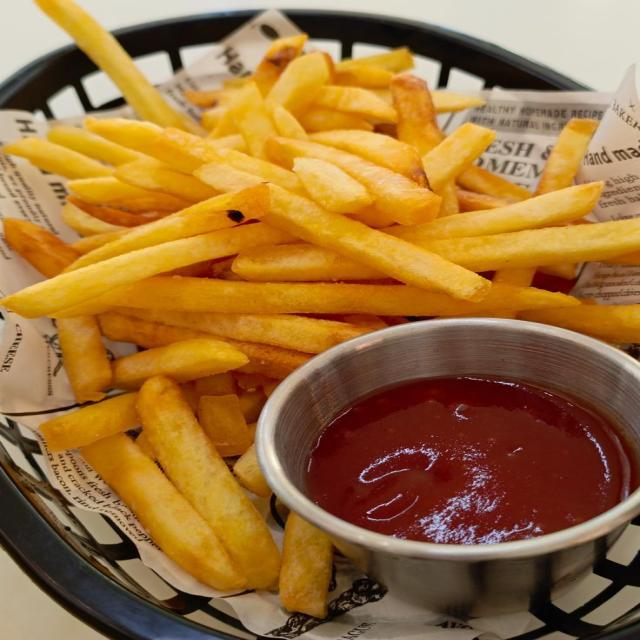potato fries: (2, 0, 639, 617), (138, 376, 279, 589), (3, 224, 291, 317), (82, 434, 246, 589), (266, 187, 490, 300), (37, 0, 199, 132), (105, 277, 579, 315), (73, 186, 268, 269), (267, 138, 440, 224), (100, 309, 310, 379), (386, 183, 602, 242), (412, 220, 639, 272), (120, 310, 366, 352), (113, 338, 247, 388), (310, 130, 426, 186), (40, 393, 139, 451), (280, 513, 333, 618), (423, 123, 495, 192), (57, 316, 112, 403), (536, 119, 598, 194), (3, 138, 113, 179), (3, 218, 79, 277), (518, 305, 639, 342), (67, 177, 192, 212), (391, 74, 444, 156), (294, 158, 373, 213), (114, 160, 217, 202), (267, 52, 329, 116), (47, 125, 144, 165), (231, 82, 276, 157), (252, 34, 306, 95), (198, 395, 251, 456), (67, 196, 164, 227), (314, 87, 396, 121), (457, 166, 532, 201), (61, 203, 128, 236), (335, 47, 413, 73), (234, 445, 272, 497), (300, 107, 373, 133), (267, 102, 307, 139), (334, 64, 393, 88), (195, 372, 236, 397), (239, 389, 266, 423)
